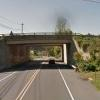Bridge: (8, 21, 85, 66)
